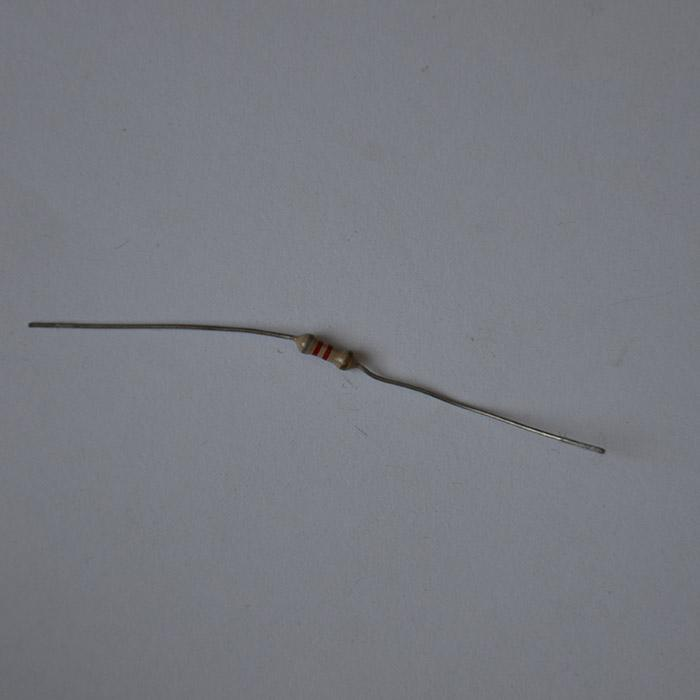resistor: (295, 332, 357, 369)
